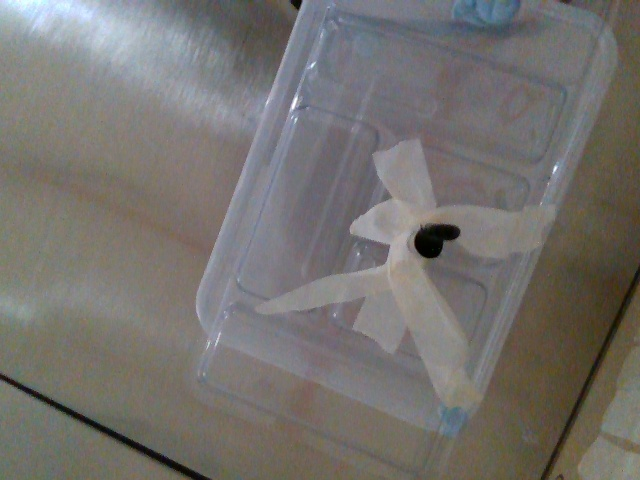test_strip: (416, 222, 458, 242)
